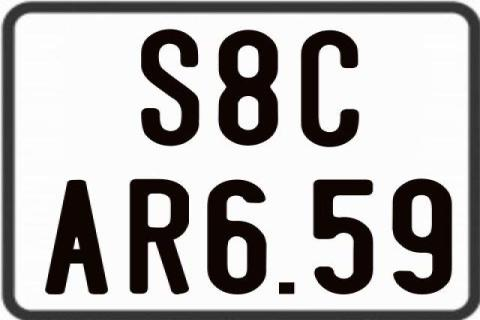0: (390, 178, 456, 294), (311, 177, 376, 293), (215, 28, 277, 145), (207, 178, 267, 296)
A: (45, 180, 114, 299)
C: (300, 30, 360, 150)
R: (128, 177, 190, 293)
S: (141, 29, 203, 151)
